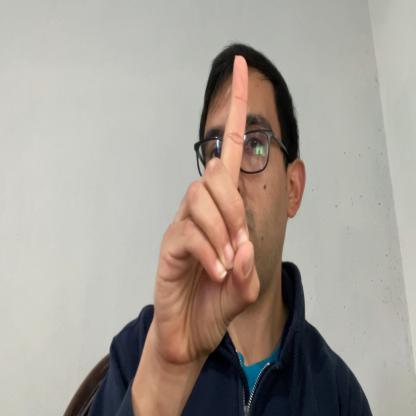D: (154, 54, 261, 365)
